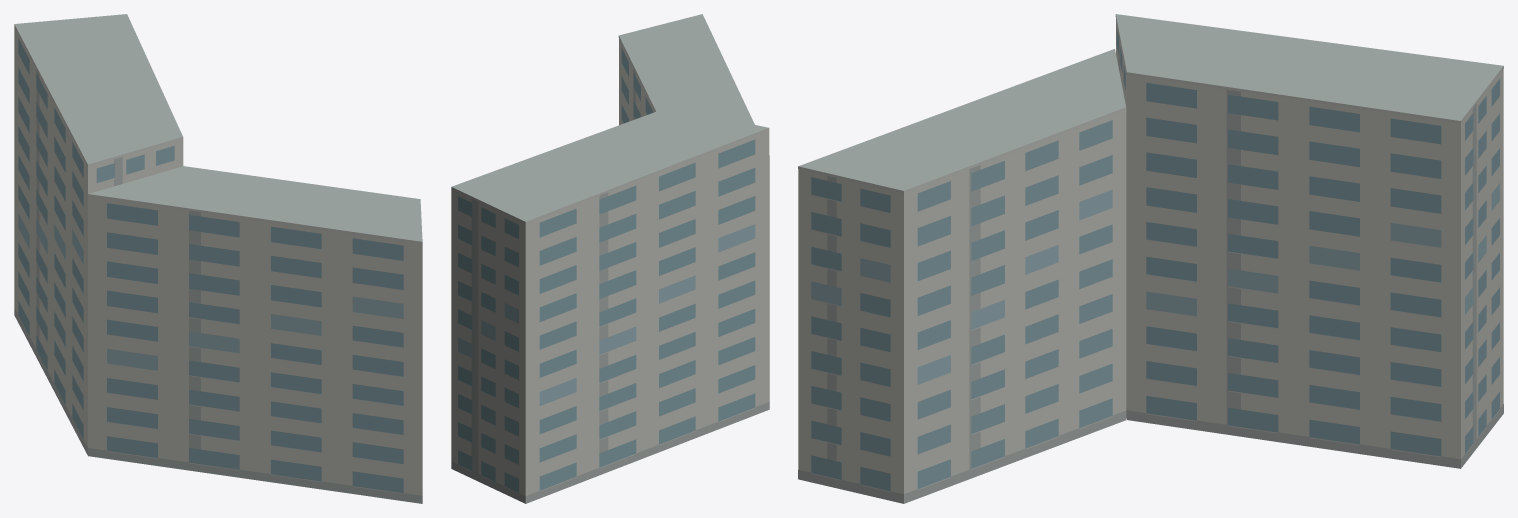
Rendered from residential-b79469b1-5b04-45a5-ab97-66042e9eb0f1.glb.
3 views of the same model, side by side, from view 1: azimuth 30°, elevation 25°; view 2: azimuth 150°, elevation 25°; view 3: azimuth 270°, elevation 25° (orthographic). The views are drawn at different scales.
Parts seen in each view (by area): view 1: residential-b79469b1-5b04-45a5-ab97-66042e9eb0f1.tmp; view 2: residential-b79469b1-5b04-45a5-ab97-66042e9eb0f1.tmp; view 3: residential-b79469b1-5b04-45a5-ab97-66042e9eb0f1.tmp.
Part boxes in pixels (x1,y1,x2,y2): residential-b79469b1-5b04-45a5-ab97-66042e9eb0f1.tmp: (14, 14, 422, 503); residential-b79469b1-5b04-45a5-ab97-66042e9eb0f1.tmp: (451, 14, 769, 503); residential-b79469b1-5b04-45a5-ab97-66042e9eb0f1.tmp: (798, 14, 1503, 503).
Size of the model in its own units: 26.76 by 30.5 by 56.09.
